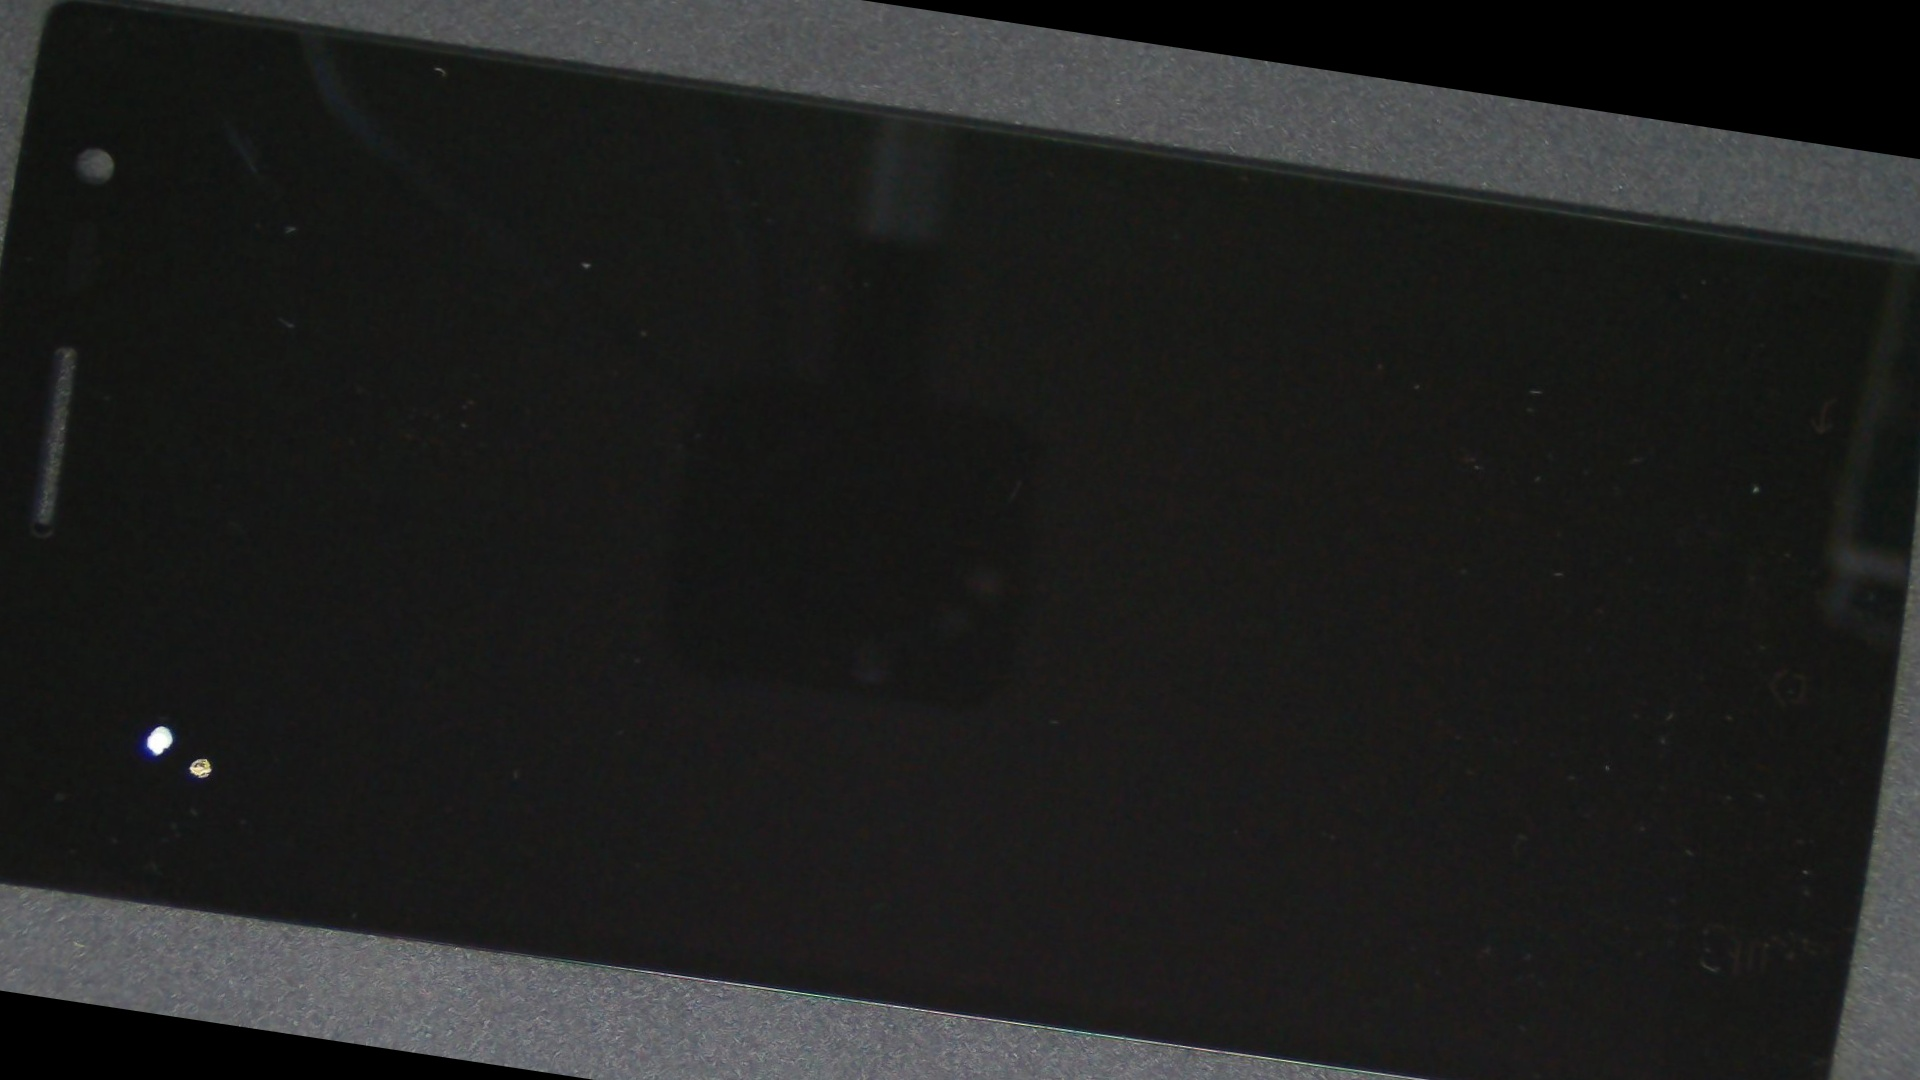oil: (0, 310, 464, 1044), (0, 293, 389, 1034)
